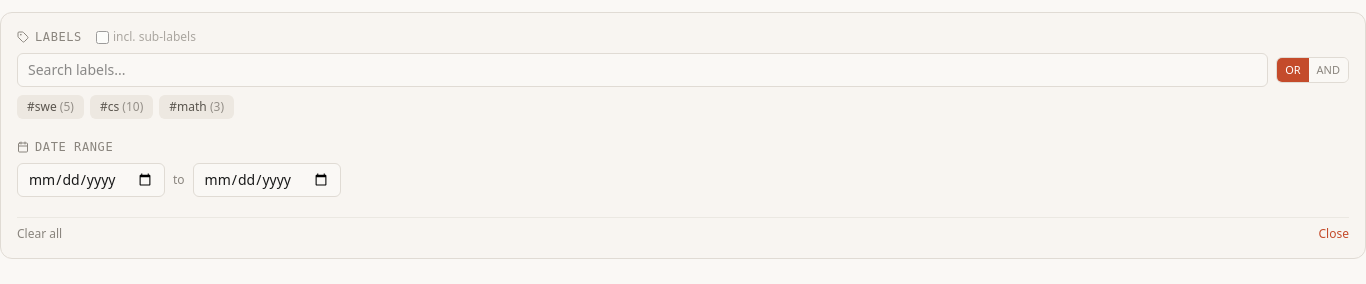
Test case: FilterPanel › shows "No matching labels" when search has no results
Type "nonexistent" into the field with placeholder "Search labels..." at (643, 70), box top-left (17, 53), bottom-right (1268, 87)
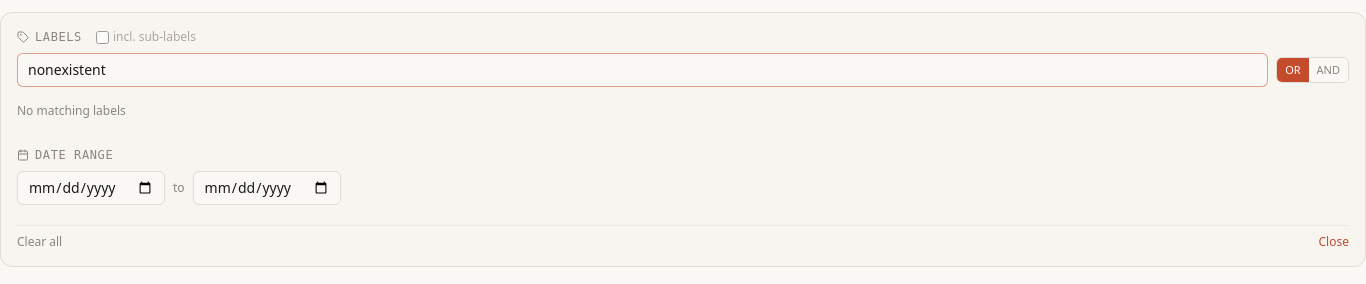
Check: the text "No matching labels" is shown, box top-left (17, 102), bottom-right (126, 119)
